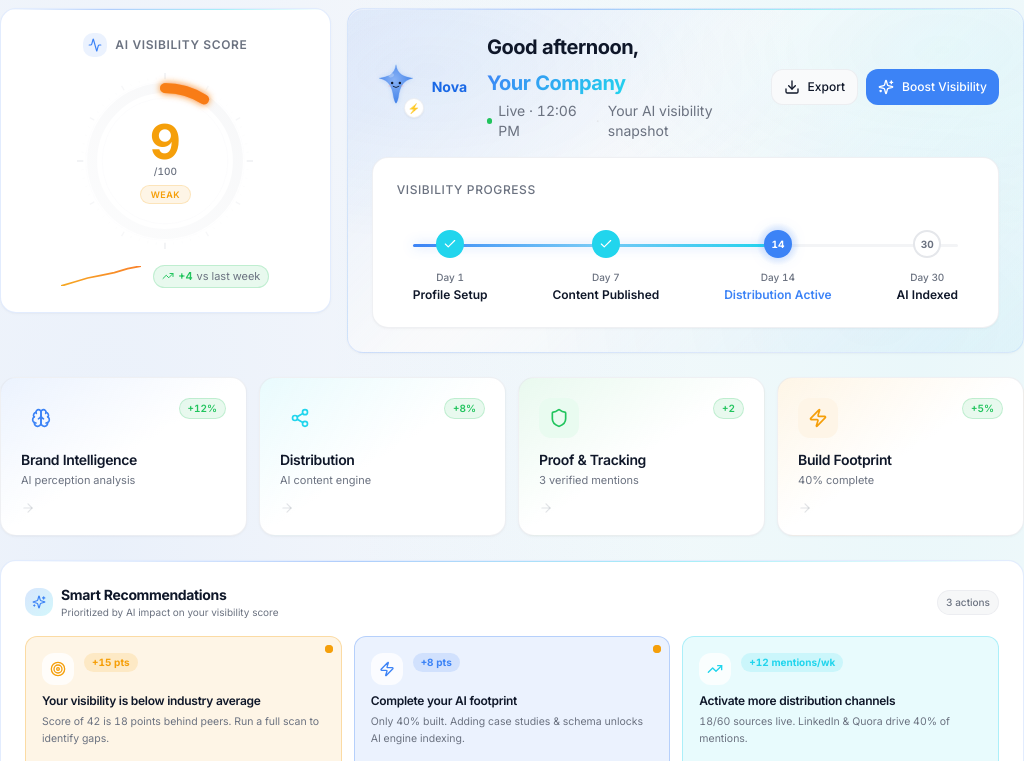
Test case: Overview page (smoke) › opens the Boost Visibility modal and navigates to Distribution
What coordinates should you click on to do the following:
click the button "Boost Visibility"
I would click on:
 (933, 87)
Its box is [866, 69, 999, 105].
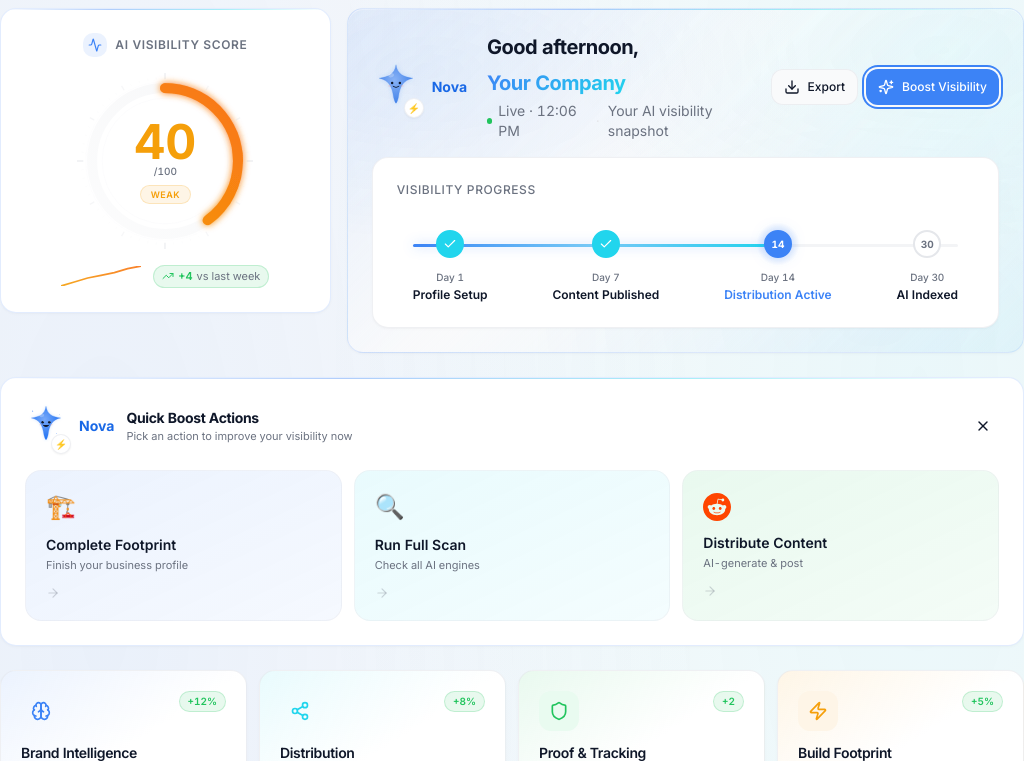
Expected: the heading "Quick Boost Actions" is shown, [126, 409, 259, 426]
What coordinates should you click on to do the following:
click the button "Distribute Content AI-generate & post"
I would click on:
 (765, 542)
Its box is [682, 470, 999, 620].
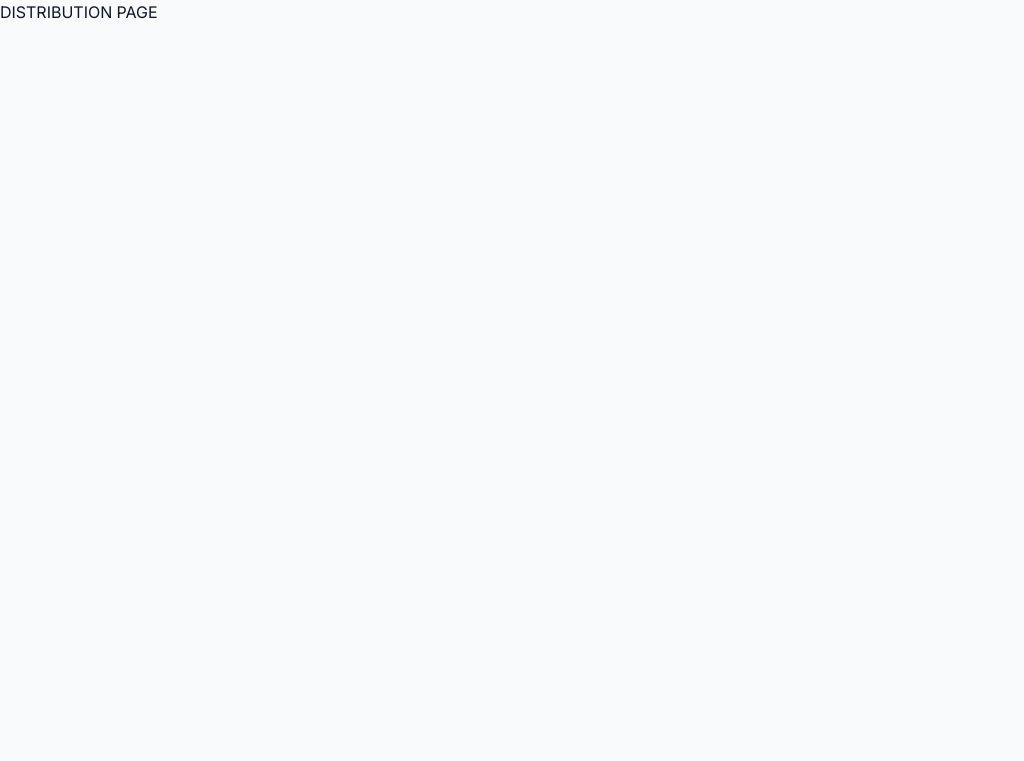
Expected: the text "DISTRIBUTION PAGE" is shown, [0, 2, 158, 22]
